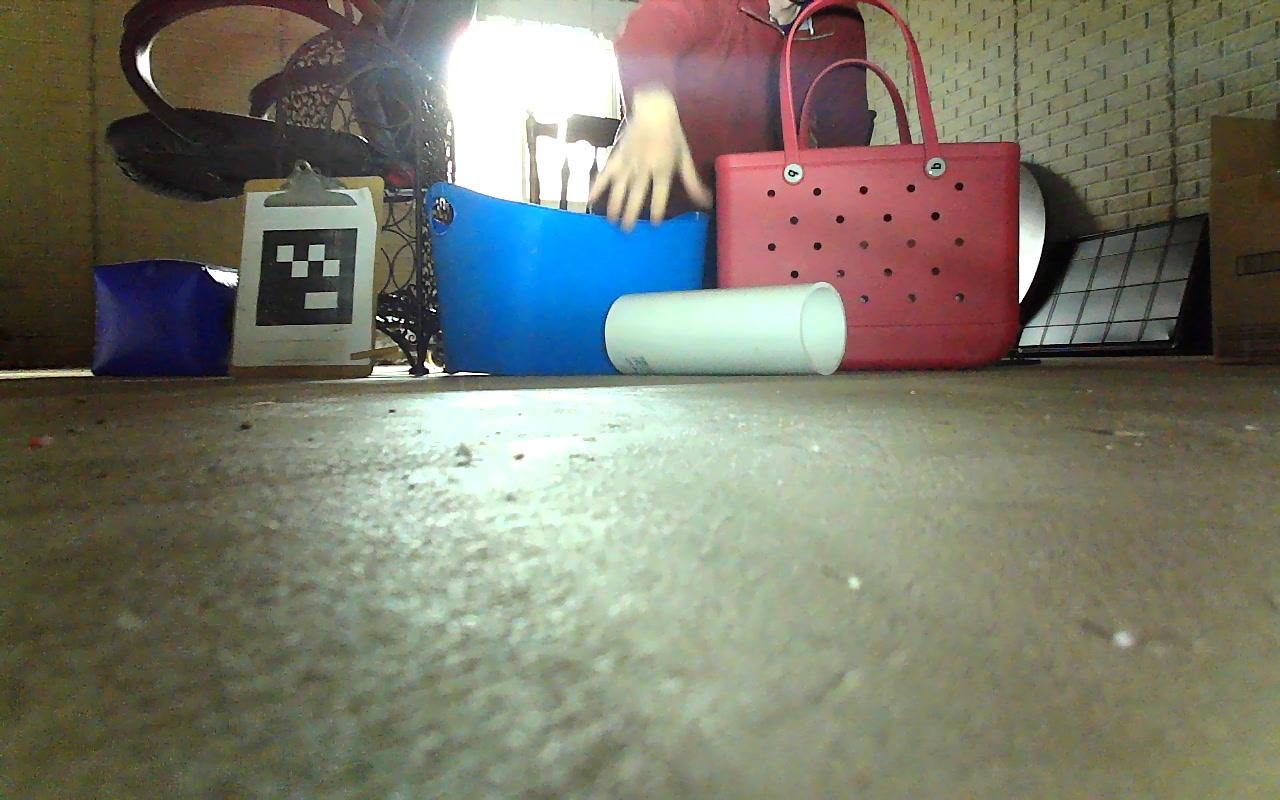coral: (605, 282, 847, 376)
